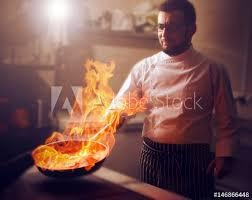fire: (28, 52, 153, 177)
